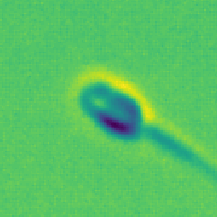normal: (143, 116, 217, 183)
